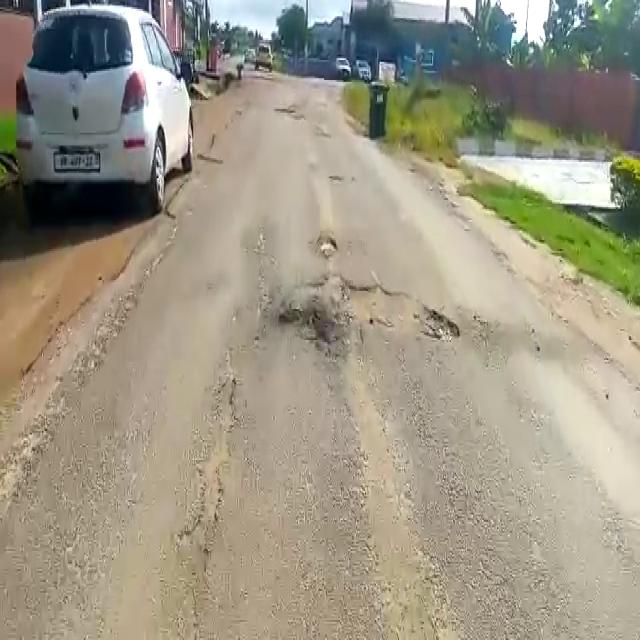Pothole: (330, 270, 468, 340), (278, 299, 344, 353), (314, 235, 342, 258)
